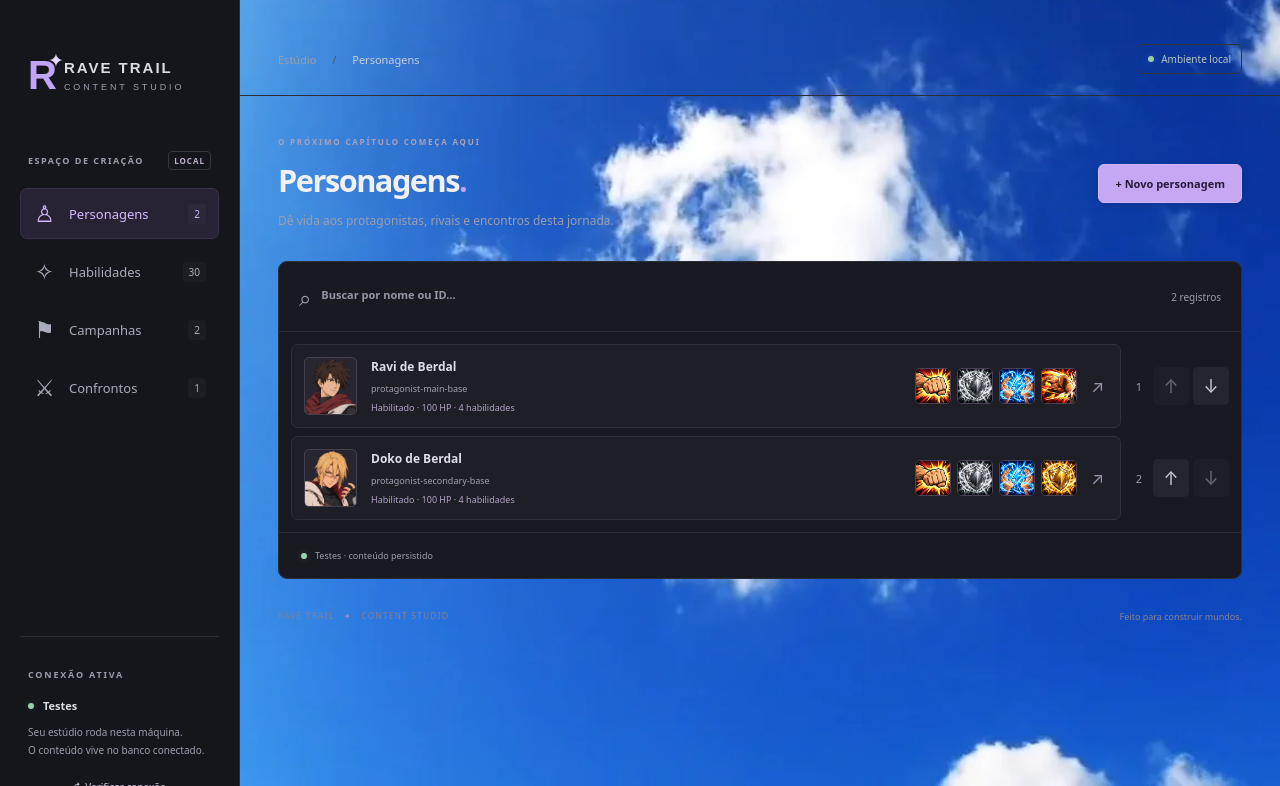
Test: permite desabilitar e reabilitar um personagem pelo editor
(page scrolled)
Click the button "Ravi de Berdal". click: {"x": 330, "y": 386}
box: left=291, top=344, right=1121, bottom=428
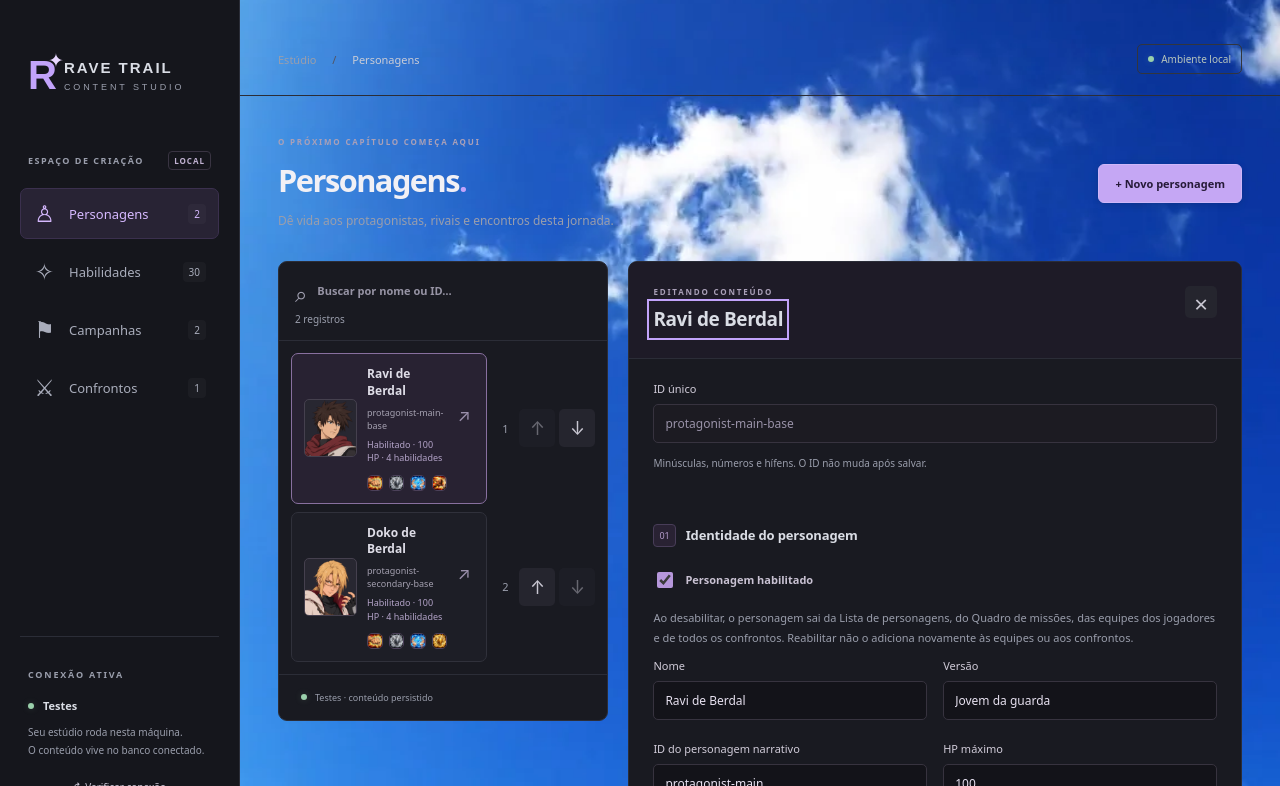
Check: the checkbox labelled "Personagem habilitado" is checked
Click the checkbox labelled "Personagem habilitado". click: {"x": 665, "y": 580}
box: left=657, top=572, right=673, bottom=588
(page scrolled)
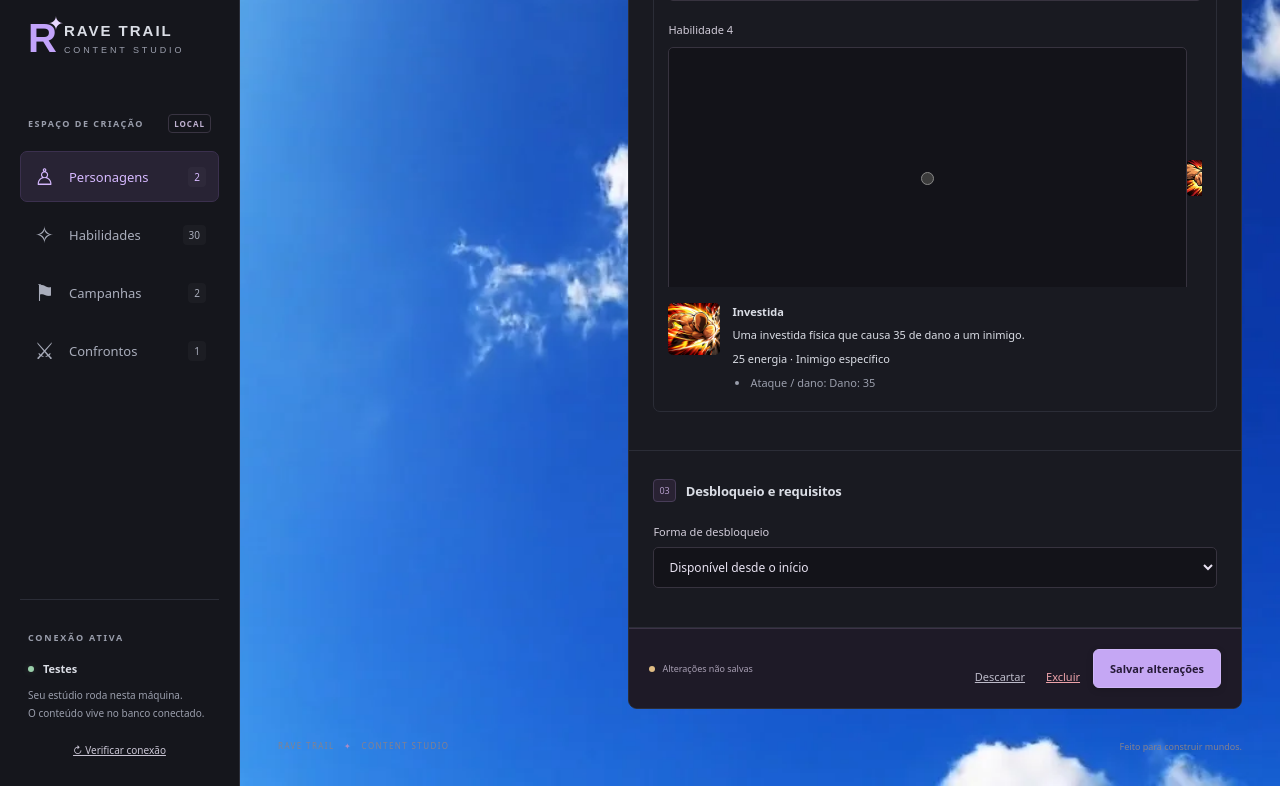
Click the button "Salvar alterações". click: {"x": 1157, "y": 669}
box: left=1093, top=649, right=1221, bottom=688
(page scrolled)
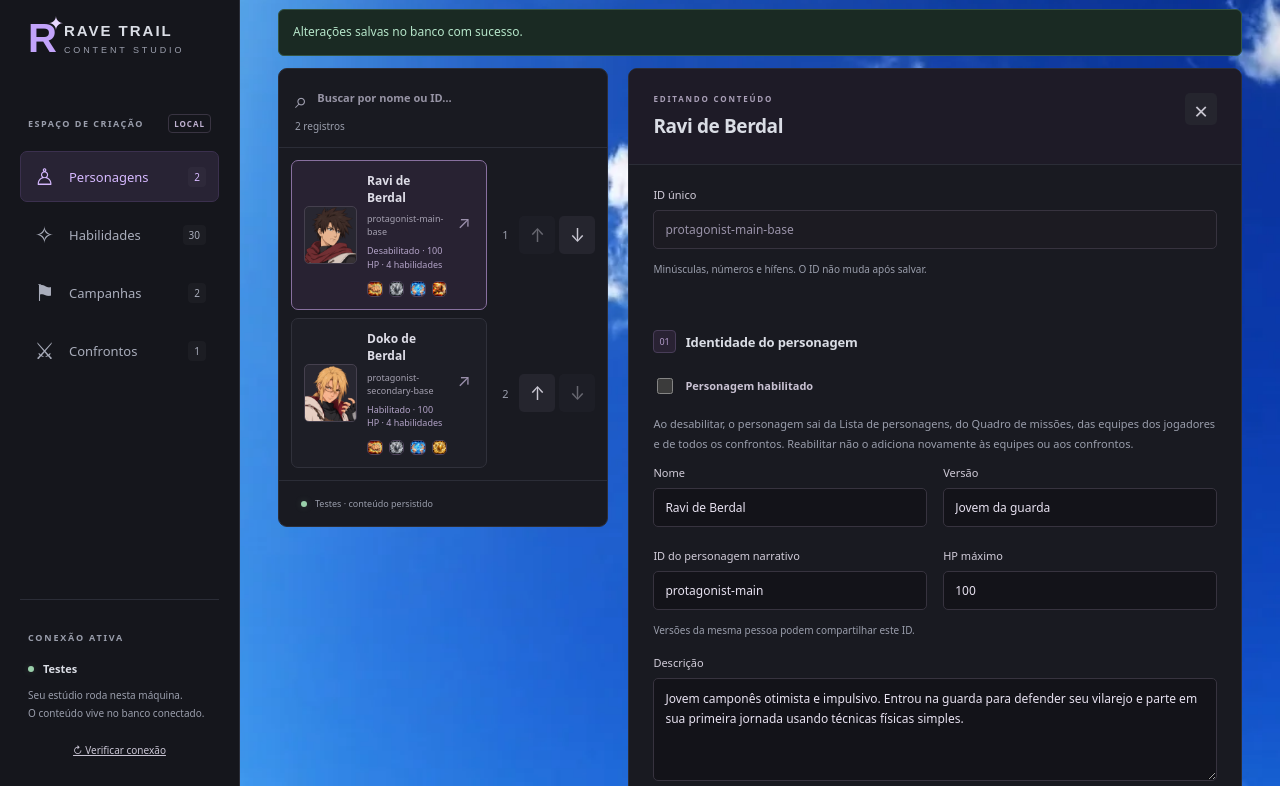
Check: the text "Alterações salvas no banco com sucesso." is shown, box left=278, top=9, right=1242, bottom=56
Check: the text "Desabilitado · 100 HP · 4 habilidades" is shown, box left=367, top=244, right=447, bottom=271
Click the checkbox labelled "Personagem habilitado". click: {"x": 665, "y": 386}
box: left=657, top=378, right=673, bottom=394
(page scrolled)
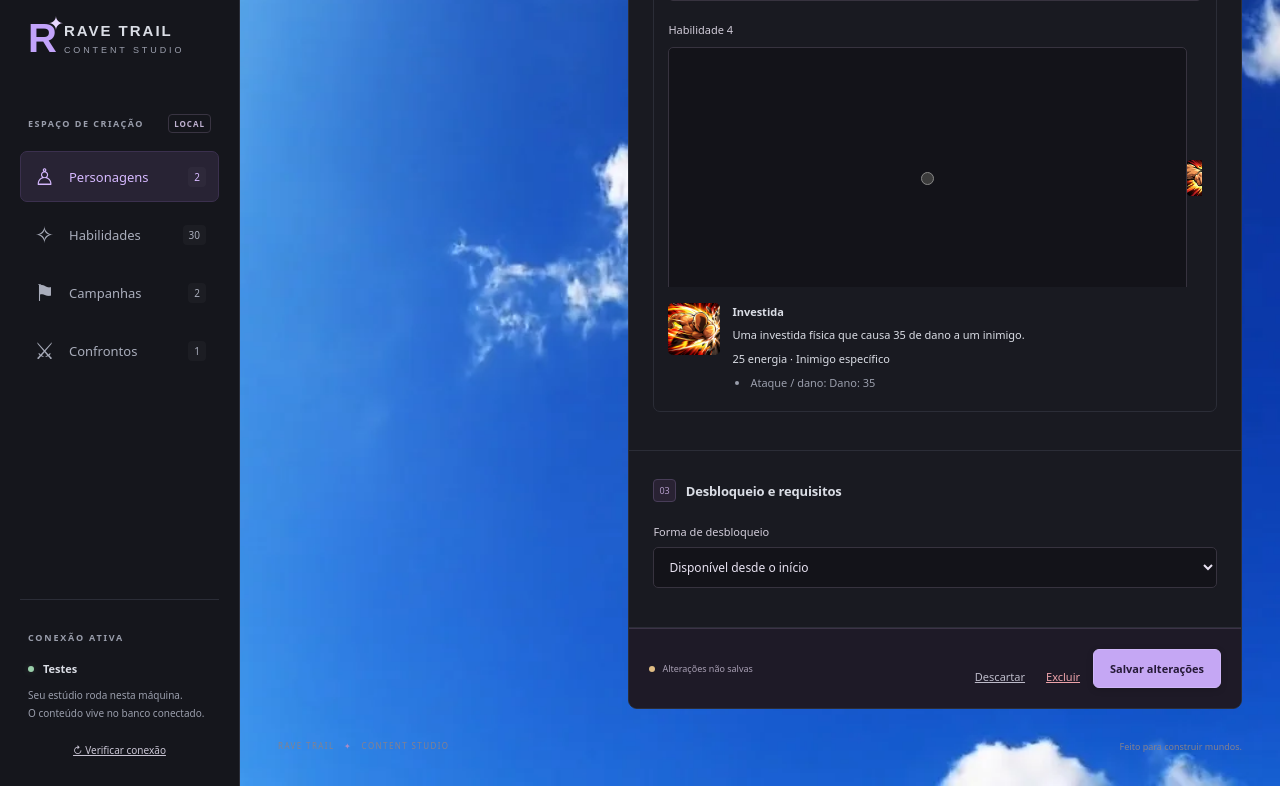
Click the button "Salvar alterações". click: {"x": 1157, "y": 669}
box: left=1093, top=649, right=1221, bottom=688
(page scrolled)
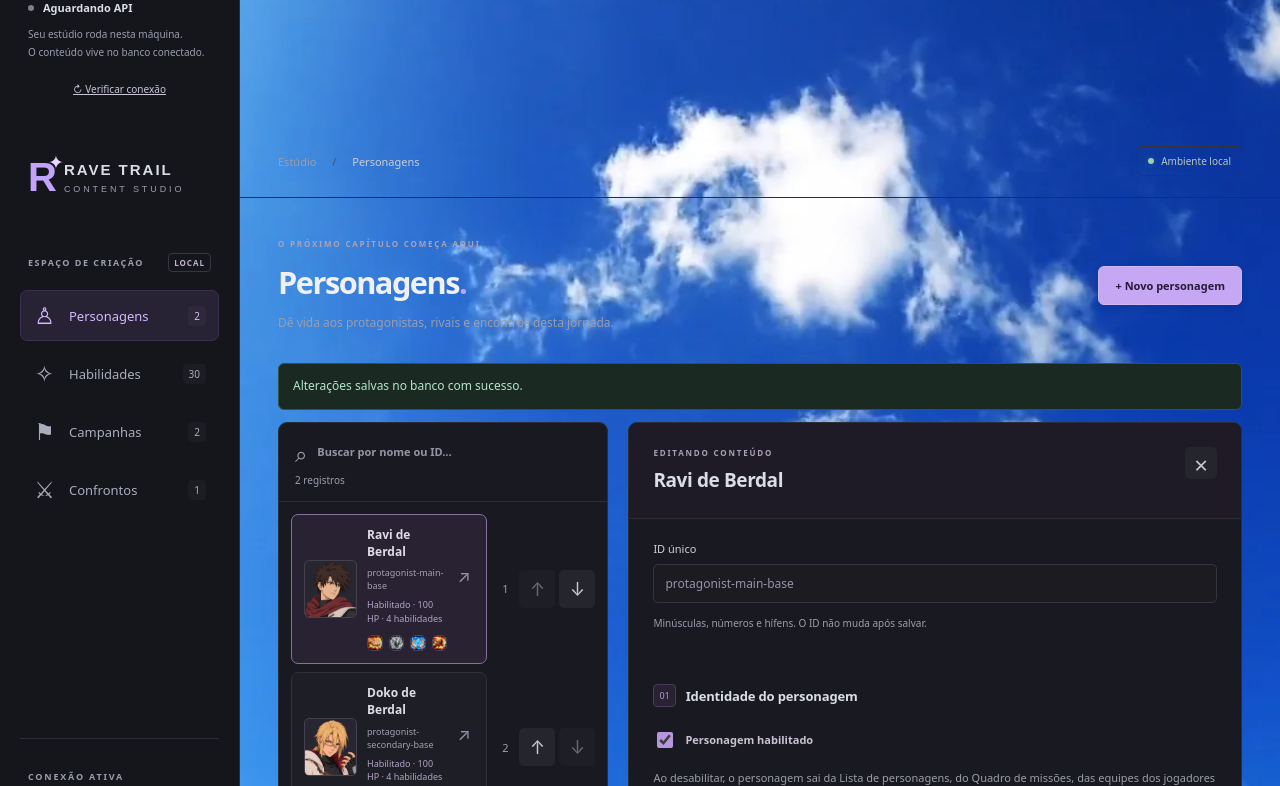
Check: the text "Alterações salvas no banco com sucesso." is shown, box left=278, top=363, right=1242, bottom=410
